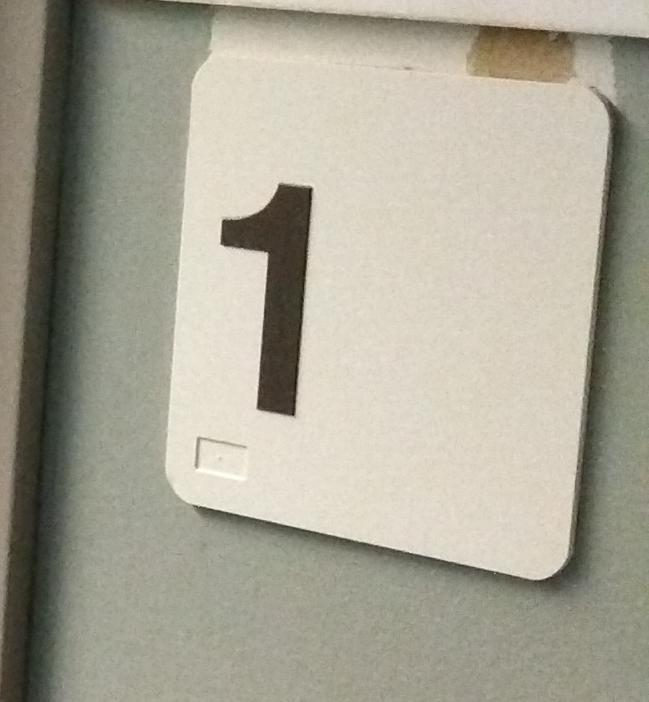sign: (164, 57, 613, 581)
